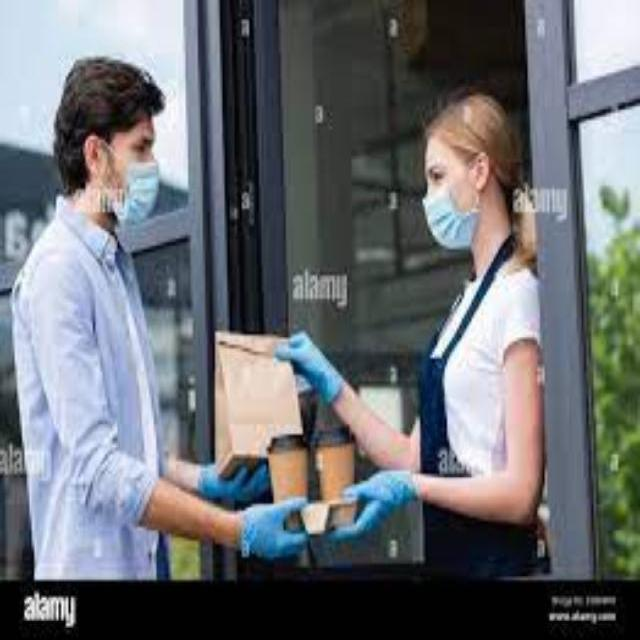gloved_hand: (235, 488, 309, 564), (342, 472, 412, 548), (278, 334, 343, 401), (204, 463, 271, 507)
